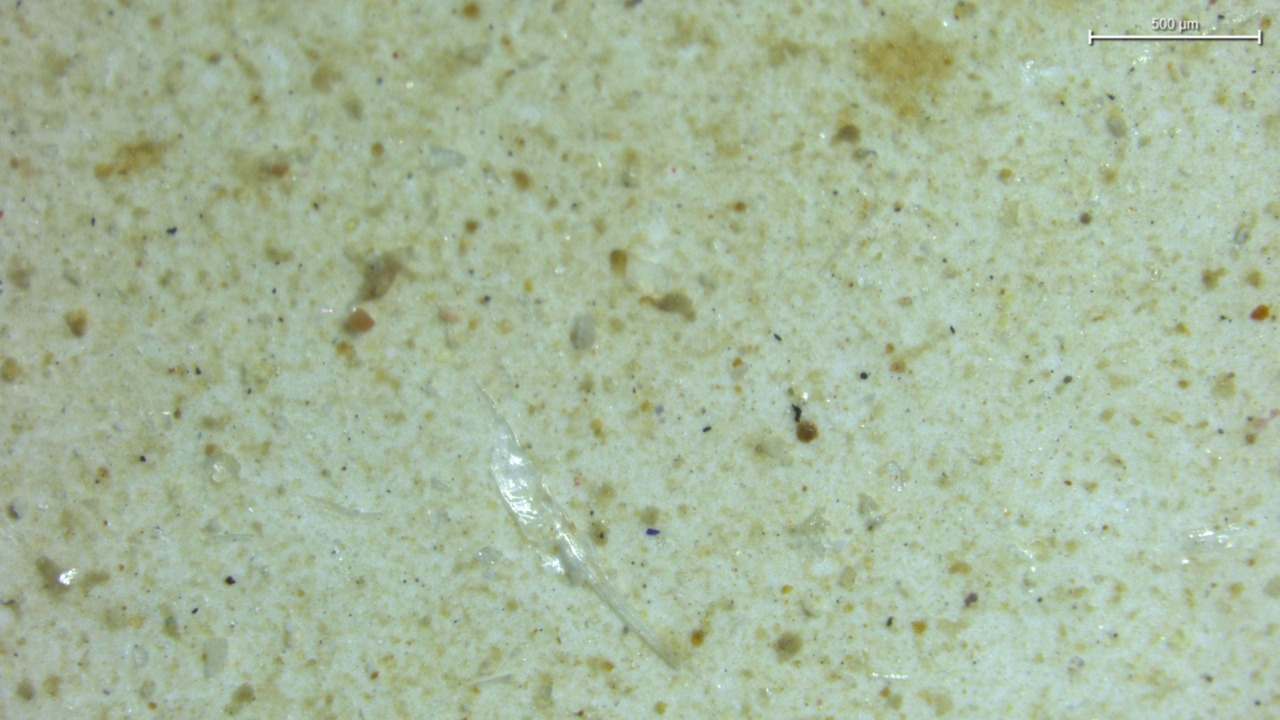microplastic_fragment: (480, 389, 673, 662), (570, 314, 595, 350)
